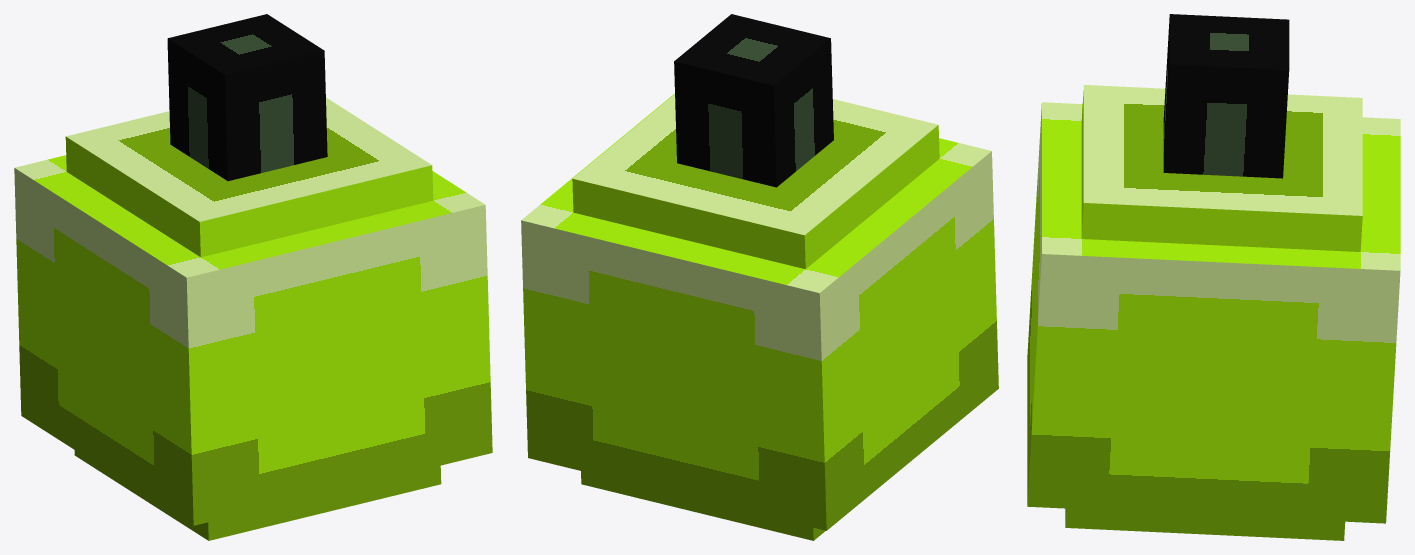
File: combat_slinger_rocket.fbx
The picture shows the model from 3 angles, left to right: view 1: azimuth 30°, elevation 25°; view 2: azimuth 150°, elevation 25°; view 3: azimuth 270°, elevation 25°; orthographic projection. The views are drawn at different scales.
Visible parts, largest first — view 1: combat_slinger_rocket; view 2: combat_slinger_rocket; view 3: combat_slinger_rocket.
Part boxes in pixels (x1=…): combat_slinger_rocket: x1=14, y1=14, x2=492, y2=540; combat_slinger_rocket: x1=521, y1=14, x2=998, y2=540; combat_slinger_rocket: x1=1027, y1=14, x2=1400, y2=540.
Size of the model in its own units: 0.1315 by 0.1788 by 0.1366.
1 material, 1 textured.
